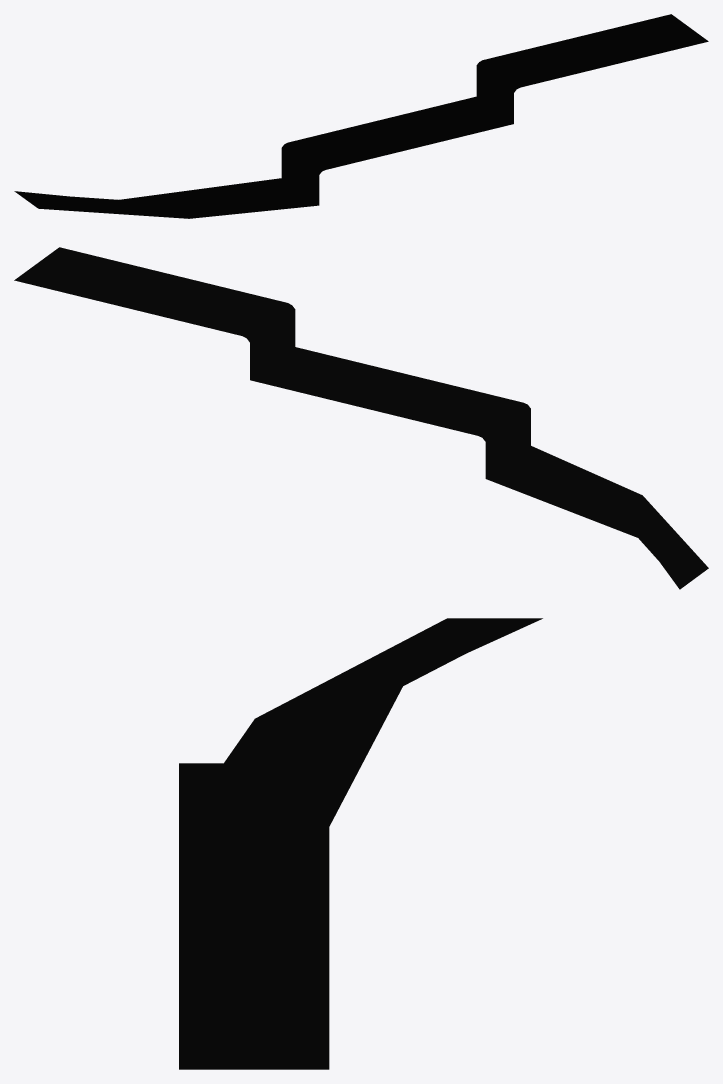
The picture shows the model from 3 angles, top to bottom: view 1: azimuth 30°, elevation 25°; view 2: azimuth 150°, elevation 25°; view 3: azimuth 270°, elevation 25°; orthographic projection. The views are drawn at different scales.
Parts seen in each view (by area): view 1: Joint_0_Object_0; view 2: Joint_0_Object_0; view 3: Joint_0_Object_0.
Part boxes in pixels (<box>): Joint_0_Object_0: <box>14,14,708,218</box>; Joint_0_Object_0: <box>14,247,708,589</box>; Joint_0_Object_0: <box>179,618,542,1069</box>.
Bounding box in the file's own units: 1856 × 202 × 486.
1 material, 1 textured.
